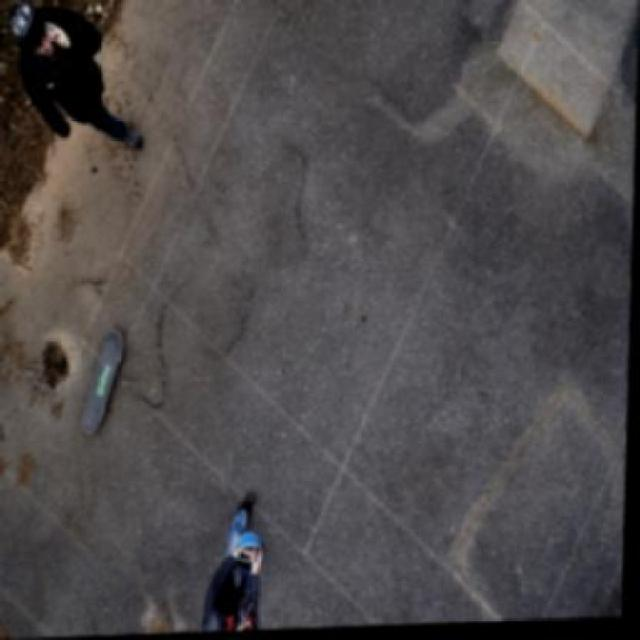Person: (4, 0, 153, 168), (198, 485, 285, 632)
